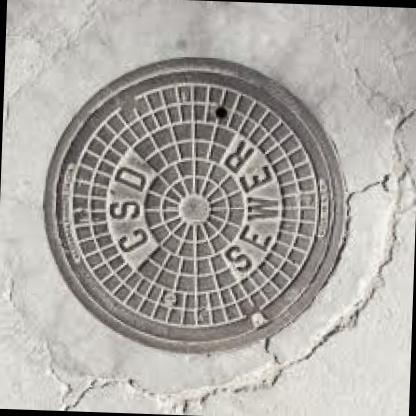manholes: (22, 28, 376, 387)
